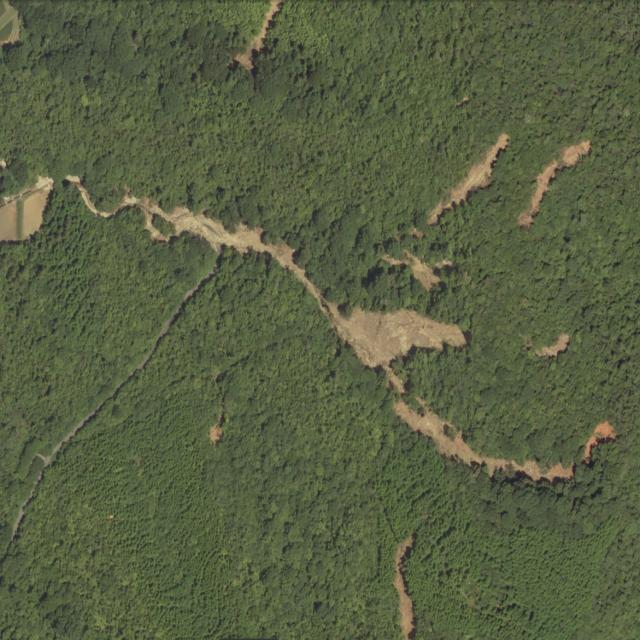landslide: (66, 175, 467, 395), (395, 397, 574, 482), (428, 133, 510, 224), (519, 140, 592, 227), (0, 177, 52, 241), (233, 0, 280, 69), (66, 175, 143, 216), (394, 536, 415, 640), (414, 261, 435, 288), (150, 208, 173, 222)
